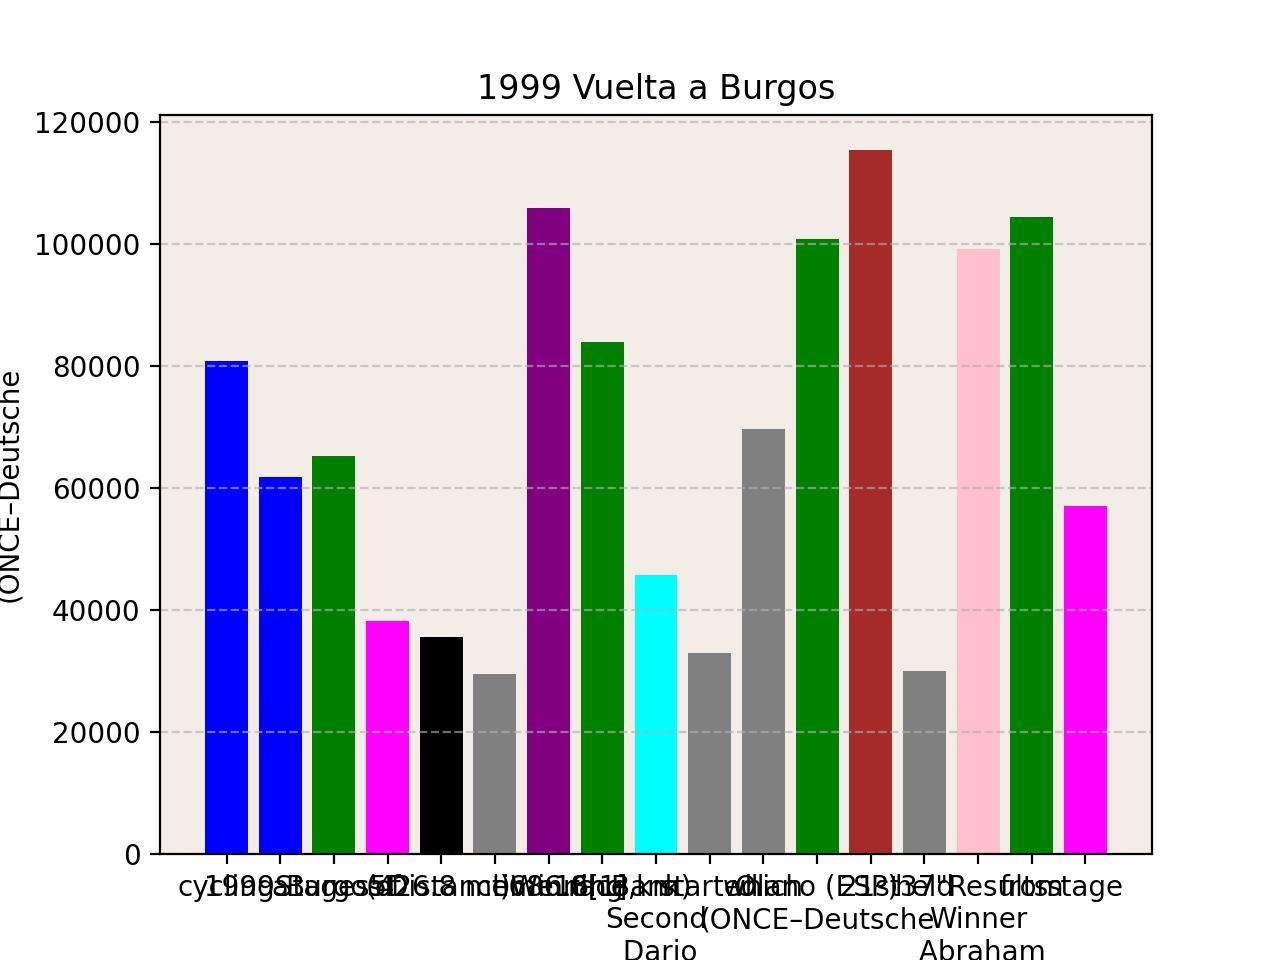axis: (0, 111, 141, 871)
rectangle: (849, 150, 892, 854), (527, 208, 570, 854), (1011, 217, 1053, 854), (795, 240, 839, 854), (956, 248, 1000, 854), (581, 343, 624, 854), (205, 361, 248, 854), (742, 429, 785, 854), (312, 457, 356, 854), (258, 478, 301, 854), (1064, 505, 1107, 854), (635, 576, 677, 854), (366, 620, 409, 854), (420, 637, 463, 854), (688, 653, 731, 854), (903, 672, 946, 854), (474, 675, 516, 854)
